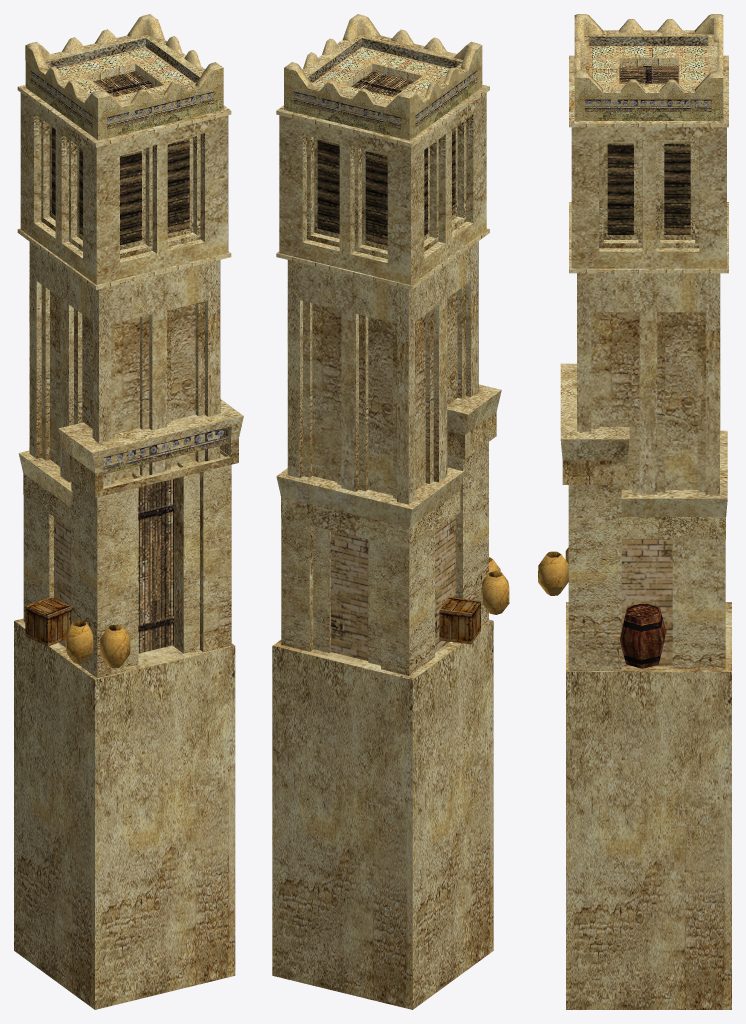
Rendered from pers_scout_tower.dae.
The picture shows the model from 3 angles, left to right: view 1: azimuth 30°, elevation 25°; view 2: azimuth 150°, elevation 25°; view 3: azimuth 270°, elevation 25°; orthographic projection. The views are drawn at different scales.
Visible parts, largest first — view 1: towers; view 2: towers; view 3: towers.
Part boxes in pixels (x1=…): towers: x1=14, y1=14, x2=243, y2=1009; towers: x1=272, y1=14, x2=509, y2=1009; towers: x1=538, y1=14, x2=731, y2=1009.
Bounding box in the file's own units: 7.47 × 6.29 × 33.34.
